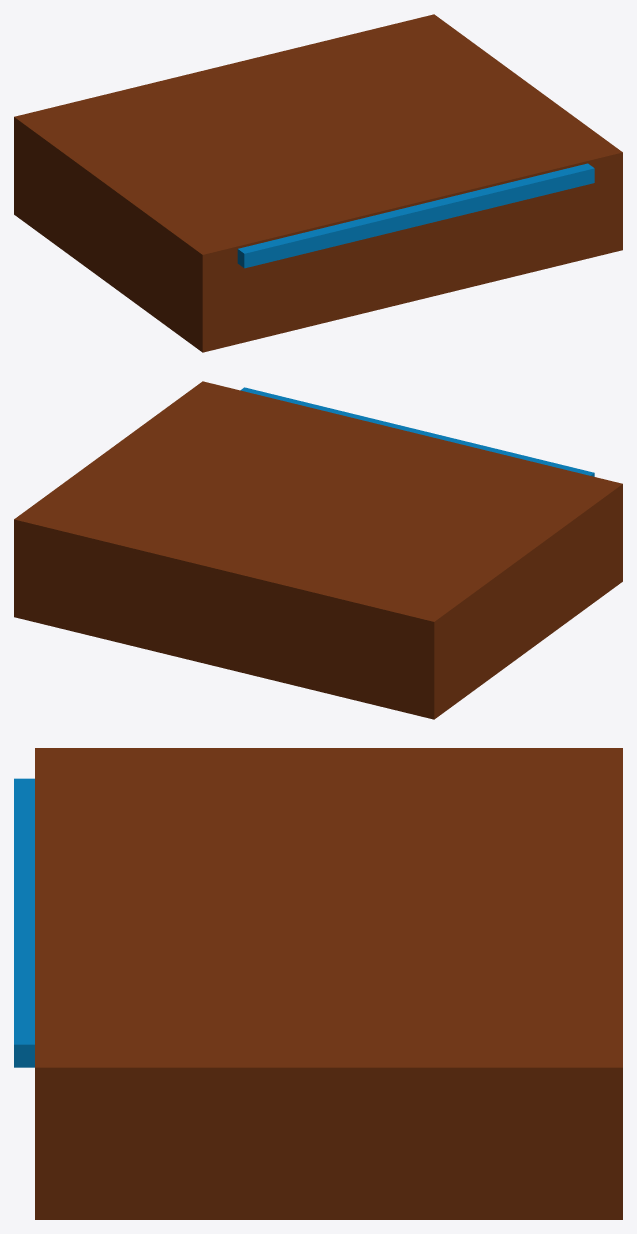
The model's file is wallet.glb.
3 renders of one model, top to bottom at view 1: azimuth 30°, elevation 25°; view 2: azimuth 150°, elevation 25°; view 3: azimuth 270°, elevation 25°, orthographic. The views are drawn at different scales.
Bounding box in the file's own units: 0.9 × 0.2 × 0.725.
